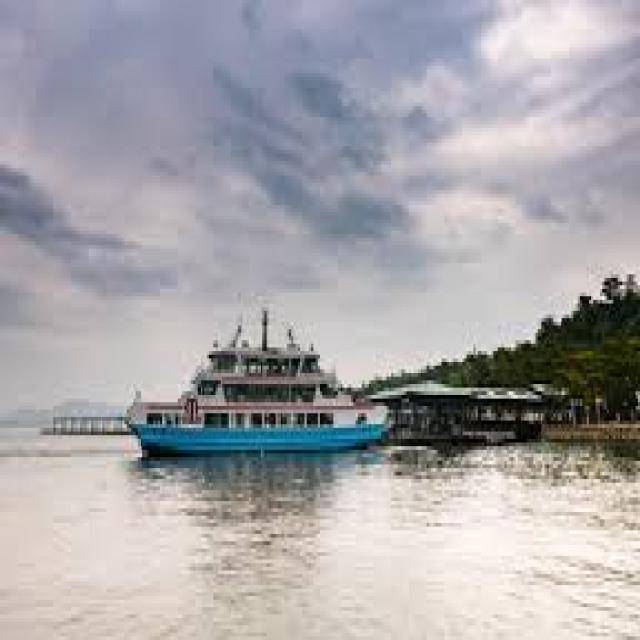passenger ship: (120, 313, 389, 464)
